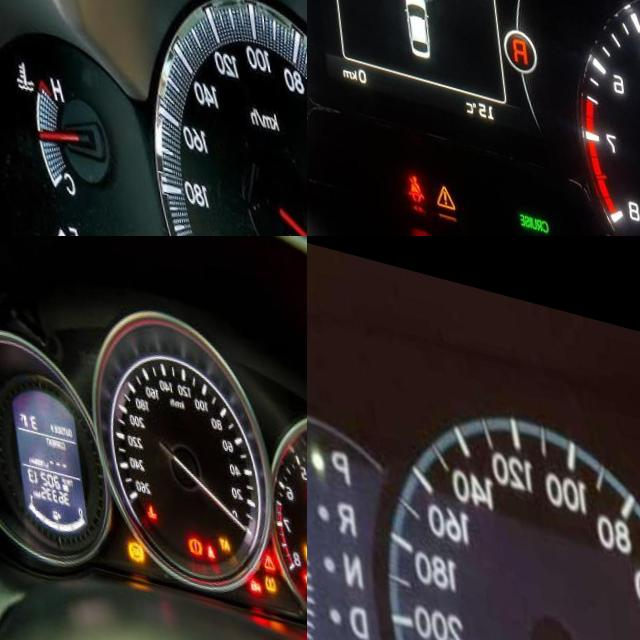Central Warning lamp: (424, 167, 445, 194), (250, 528, 268, 554)
Engine cooling system: (132, 483, 152, 509)
